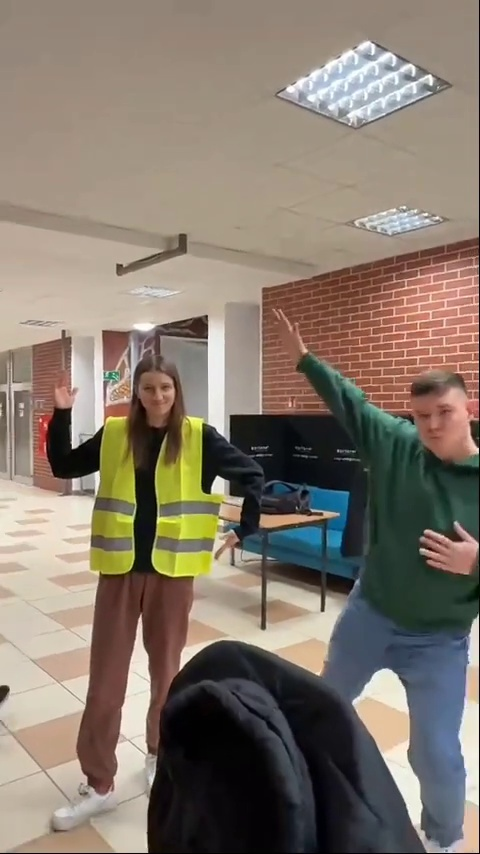no vest: (281, 309, 480, 854)
vest: (51, 347, 267, 806)
